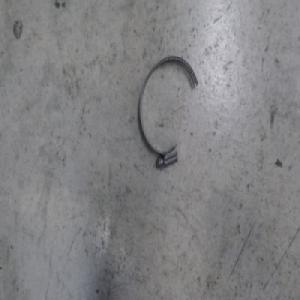AdjustableClamp: (137, 54, 200, 170)
